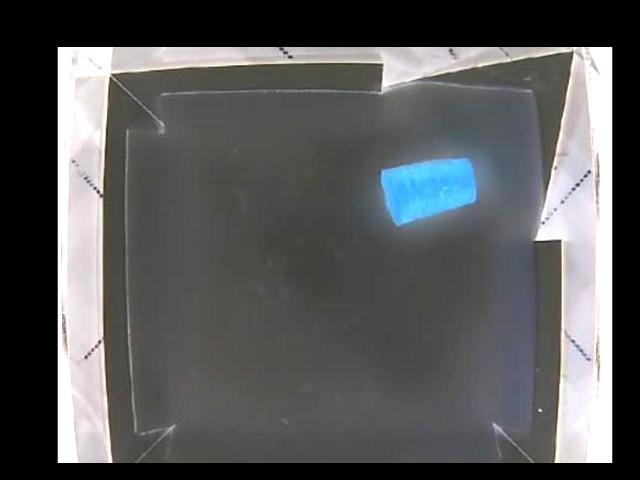Carrot: (376, 157, 477, 226)
